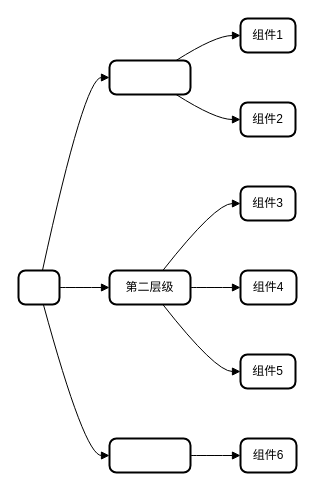
Some shapes in this 314 by 490 pixel diagram are drawn without their labels. The centre of each missing label's shape, as x and y in pixels:
lvgl: the point at 38,287
第一层级: the point at 149,77
第三层级: the point at 149,455
